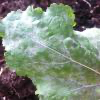Squash Powdery mildew leaf: (0, 3, 99, 99)
